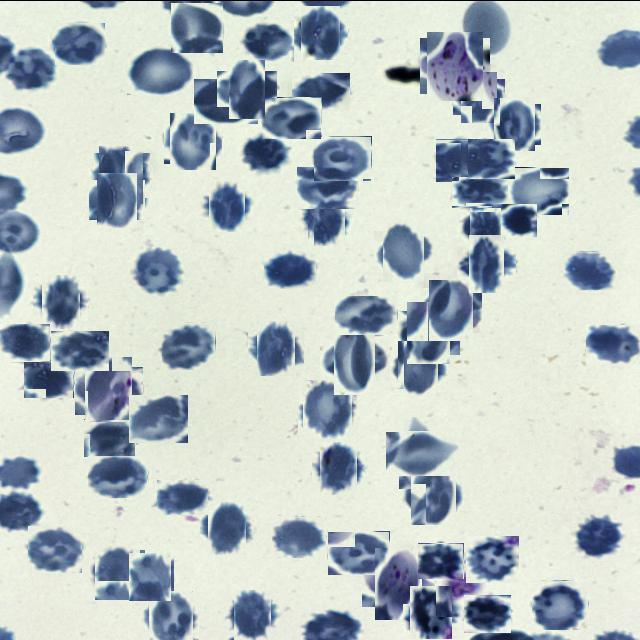red blood cell: (392, 422, 451, 482), (80, 361, 138, 419), (127, 46, 193, 94), (327, 331, 382, 387), (508, 166, 570, 214), (300, 382, 354, 436), (194, 78, 258, 123), (532, 580, 589, 630), (129, 394, 188, 442), (425, 283, 478, 336), (402, 306, 456, 358), (407, 469, 460, 521), (328, 530, 390, 574), (166, 114, 218, 166), (95, 149, 147, 200), (28, 524, 83, 572), (314, 135, 372, 180), (171, 2, 223, 52), (162, 321, 216, 369), (88, 454, 148, 497), (297, 166, 358, 208), (378, 226, 429, 276), (464, 535, 518, 582), (335, 294, 398, 334), (262, 96, 322, 138), (92, 546, 142, 596), (436, 138, 494, 181), (133, 246, 183, 294), (146, 592, 196, 640), (51, 21, 106, 64), (51, 330, 109, 370), (272, 515, 327, 557), (394, 344, 442, 392), (407, 587, 455, 635), (223, 64, 271, 112), (93, 175, 141, 223), (490, 100, 538, 147), (252, 324, 299, 371), (463, 239, 510, 286), (298, 8, 344, 56), (5, 46, 55, 90), (292, 72, 349, 110), (37, 278, 84, 324), (241, 21, 294, 61), (204, 504, 250, 550), (563, 250, 617, 289), (586, 324, 640, 363), (316, 445, 361, 491), (127, 552, 172, 598), (84, 418, 136, 456), (572, 517, 622, 556), (457, 74, 501, 118), (231, 592, 275, 636), (205, 183, 249, 227), (305, 198, 349, 242), (0, 323, 50, 361), (468, 138, 515, 178), (264, 252, 316, 288), (157, 478, 209, 514), (24, 360, 74, 397), (452, 175, 509, 207), (464, 594, 511, 632), (240, 134, 288, 170), (418, 542, 464, 578), (466, 206, 506, 246), (501, 203, 537, 236)
ring: (368, 552, 428, 612)
trophozoite: (424, 34, 486, 96)
